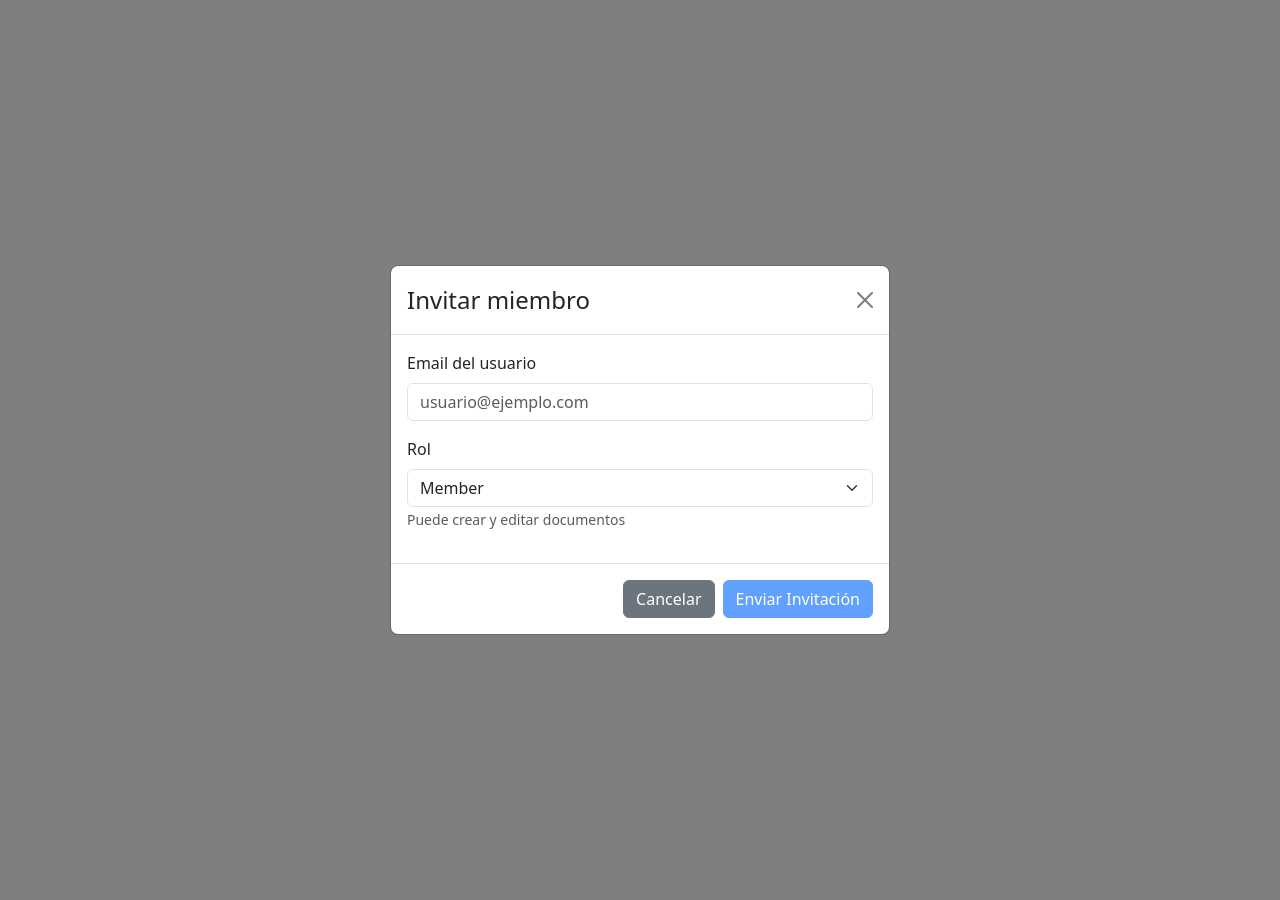
Test: InviteMemberModal › Envío de invitación › deshabilita el botón mientras se procesa la invitación
Type "test@example.com" into the field labelled "Email del usuario" at (640, 402), box [407,383,873,421]
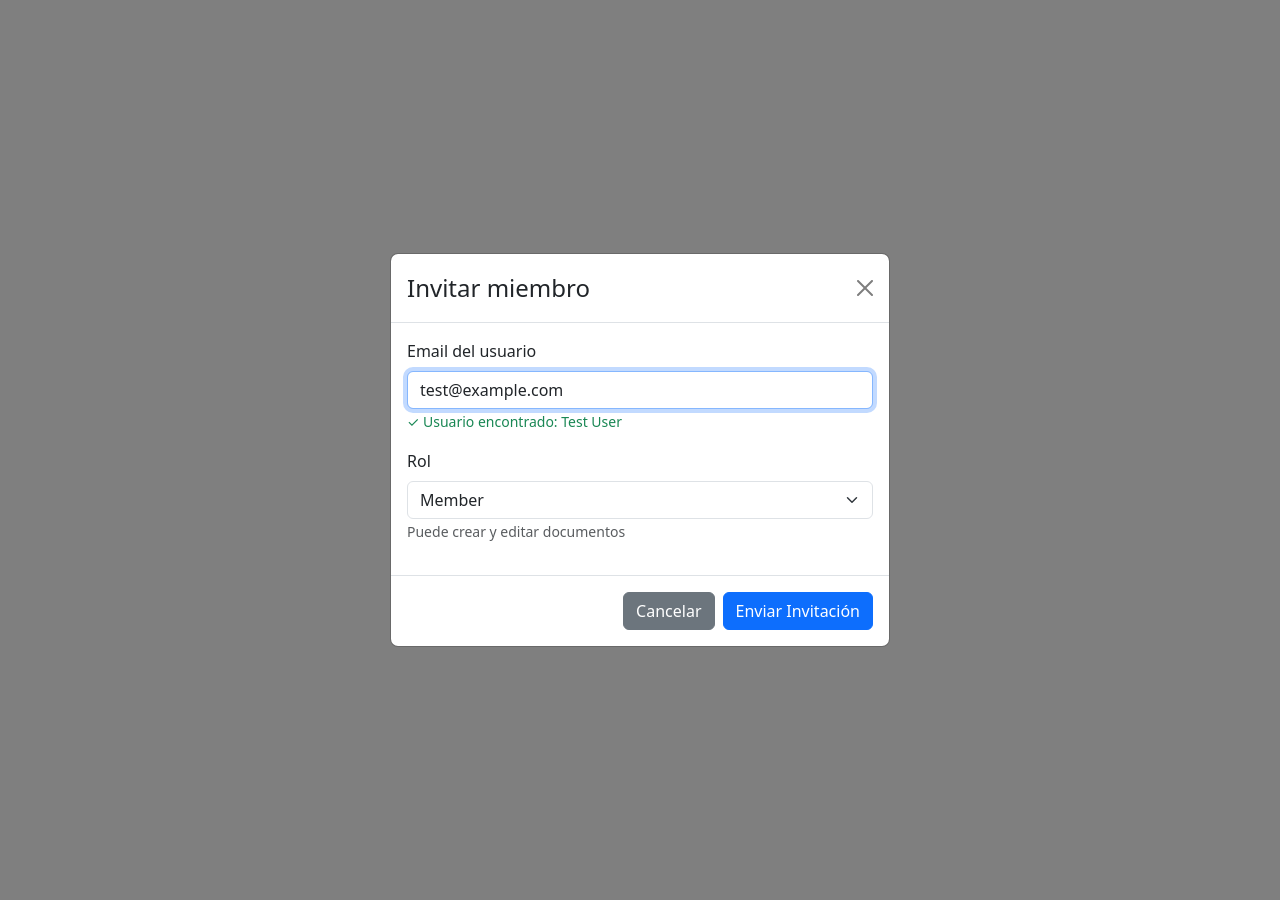
Check: the text "✓ Usuario encontrado: Test User" is shown, box [407,412,622,431]
Click the button "Enviar Invitación" at (798, 611), box [722,592,873,630]
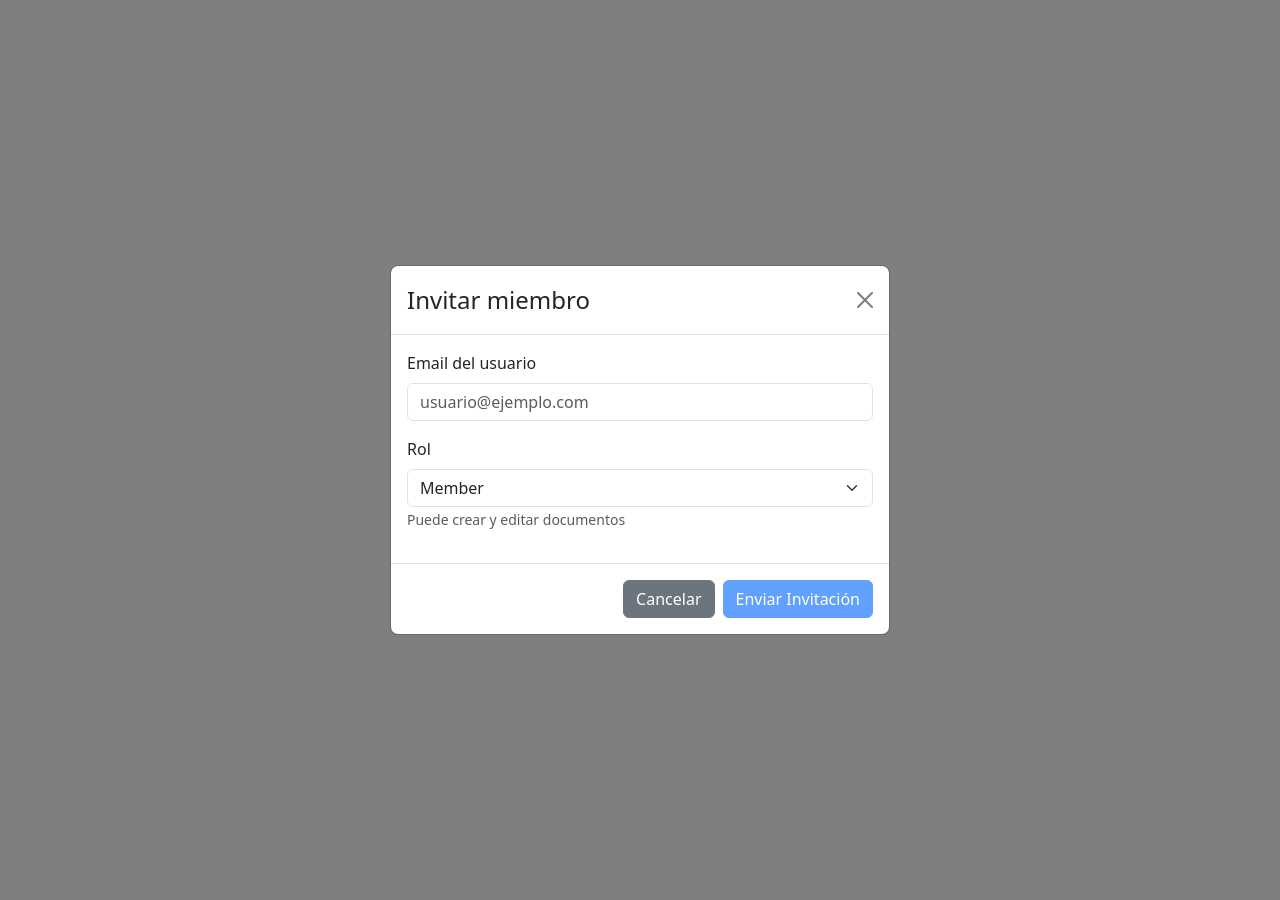
Check: the button named "Enviando invitación" is disabled, box [722,580,873,618]
